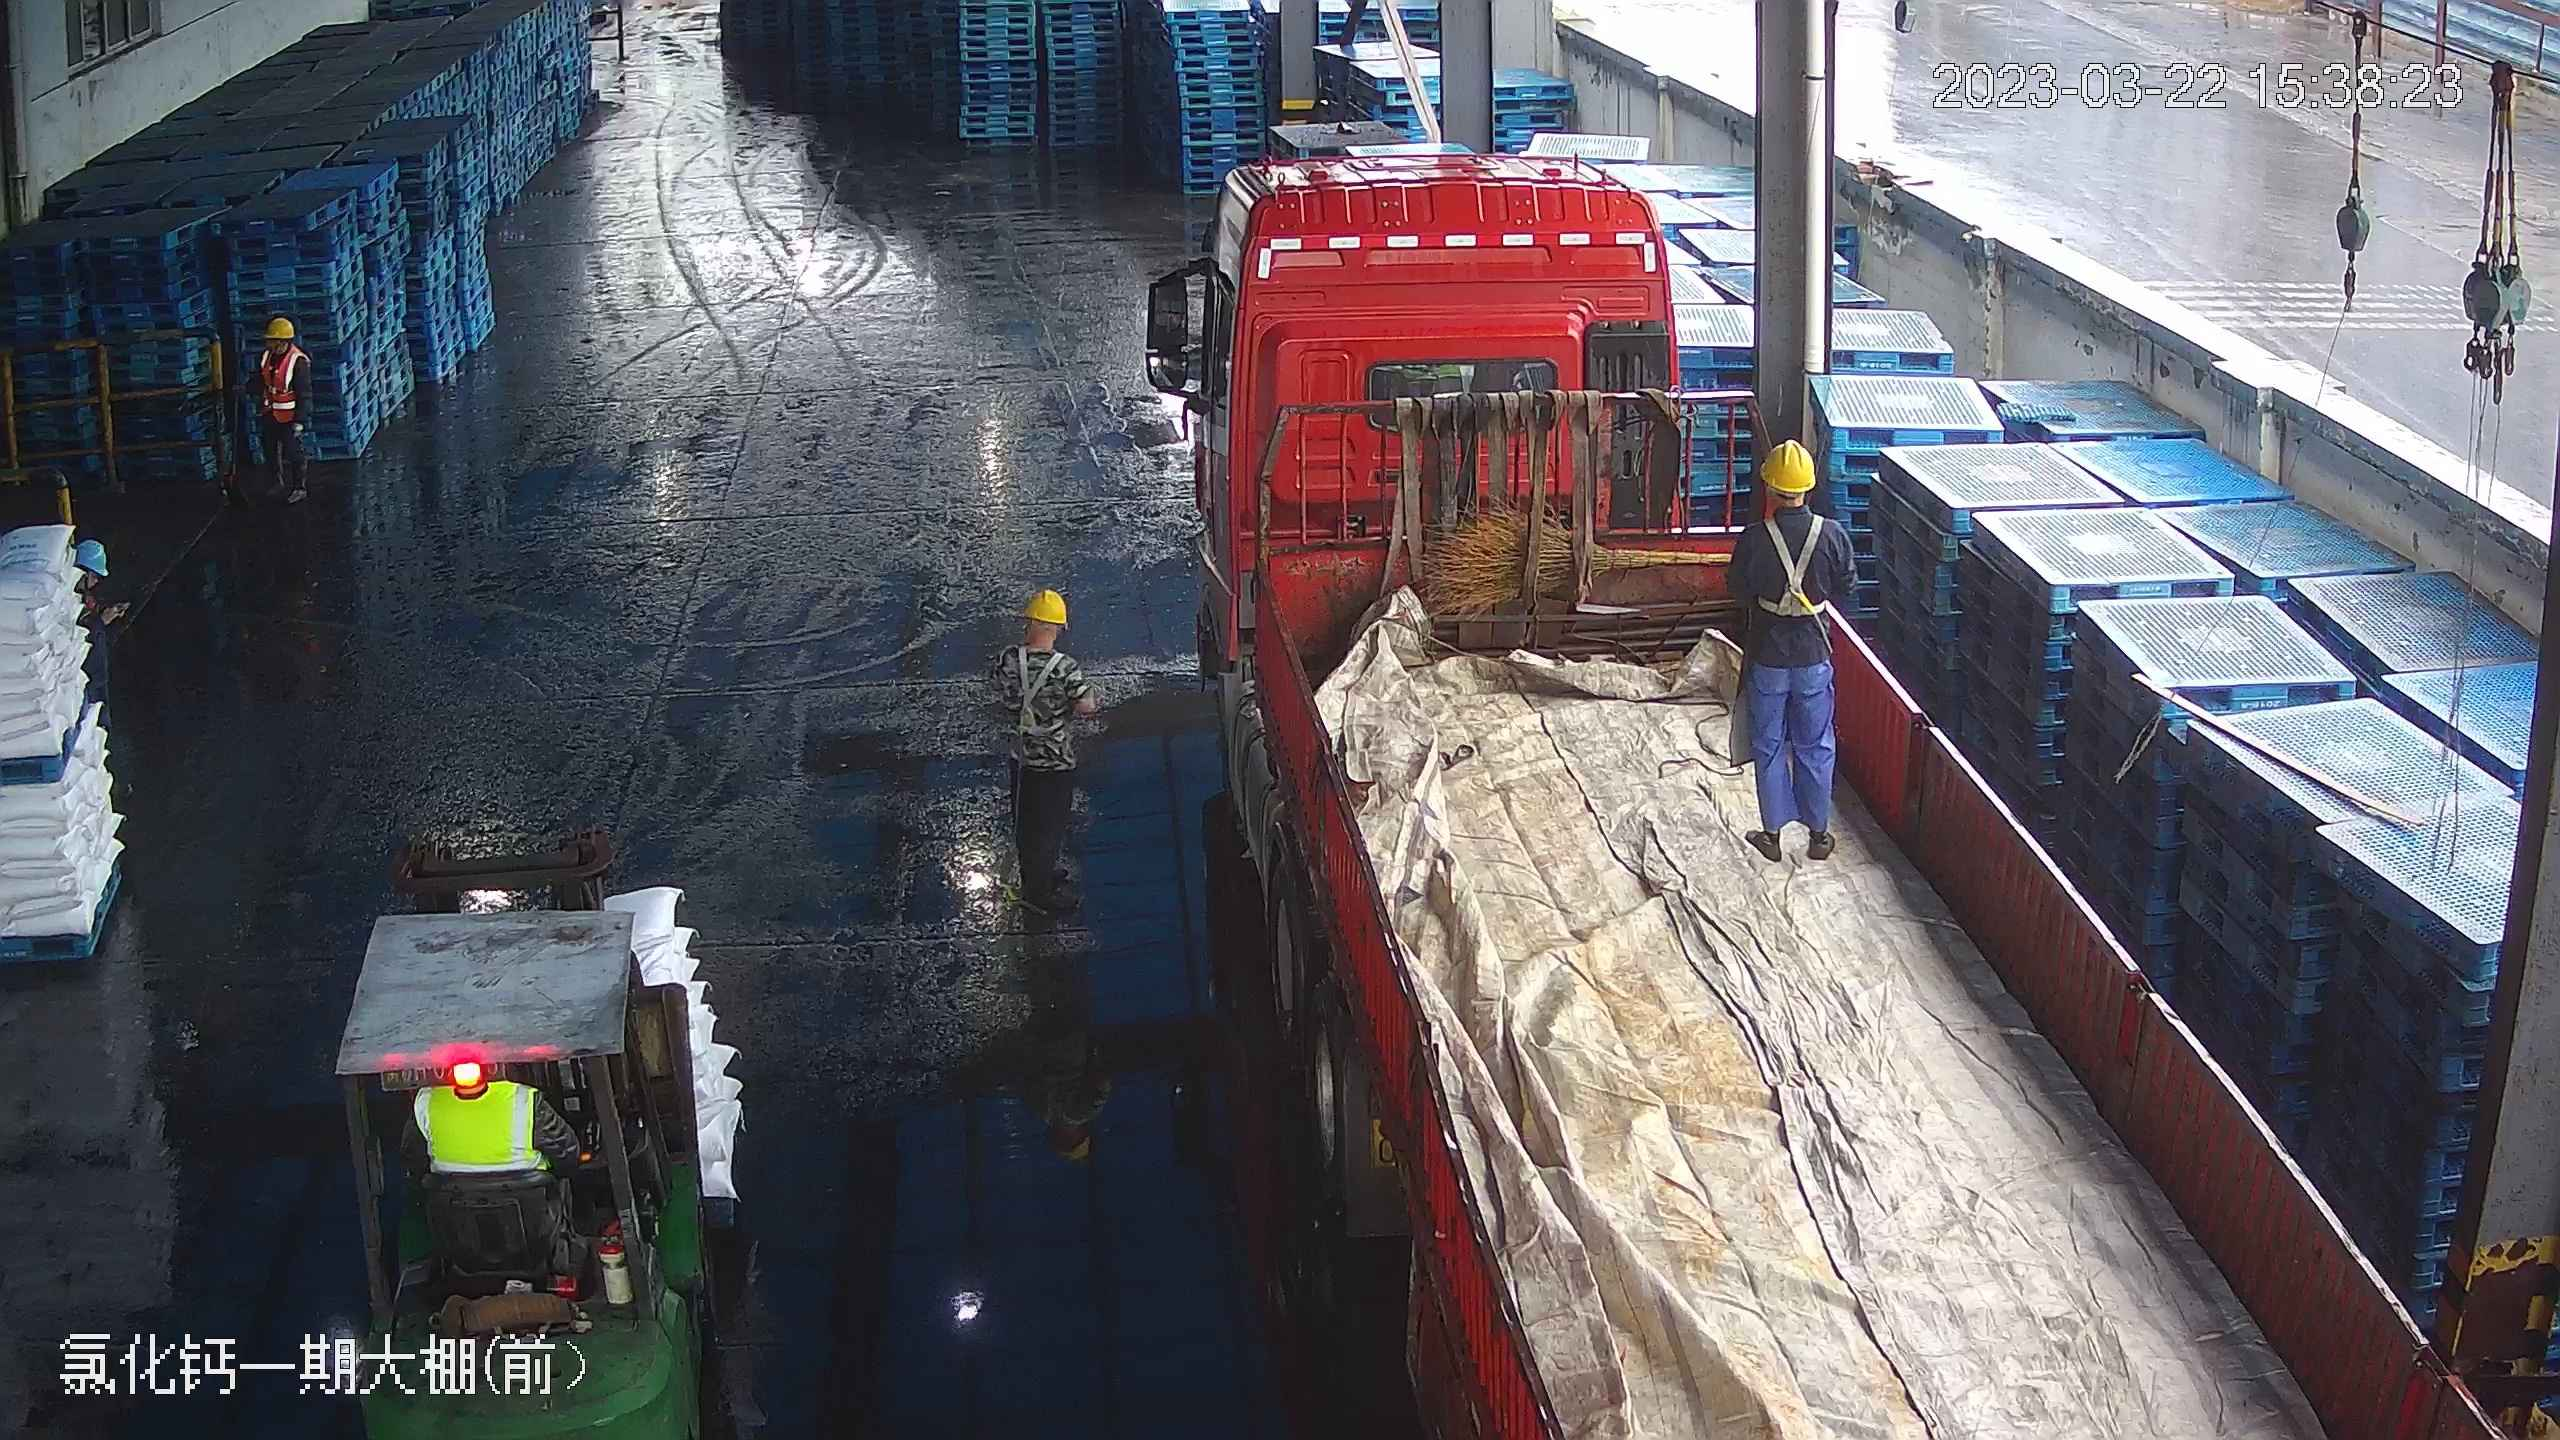belt: (1745, 512, 1835, 618), (1011, 646, 1075, 733)
head: (1722, 434, 1845, 584), (1000, 587, 1086, 693), (251, 316, 312, 382)
helmet: (1754, 437, 1817, 493), (1021, 586, 1069, 624), (262, 314, 296, 340)
people: (1718, 434, 1857, 866), (996, 585, 1103, 945), (244, 316, 316, 511)
truck: (1161, 150, 2501, 1432)
